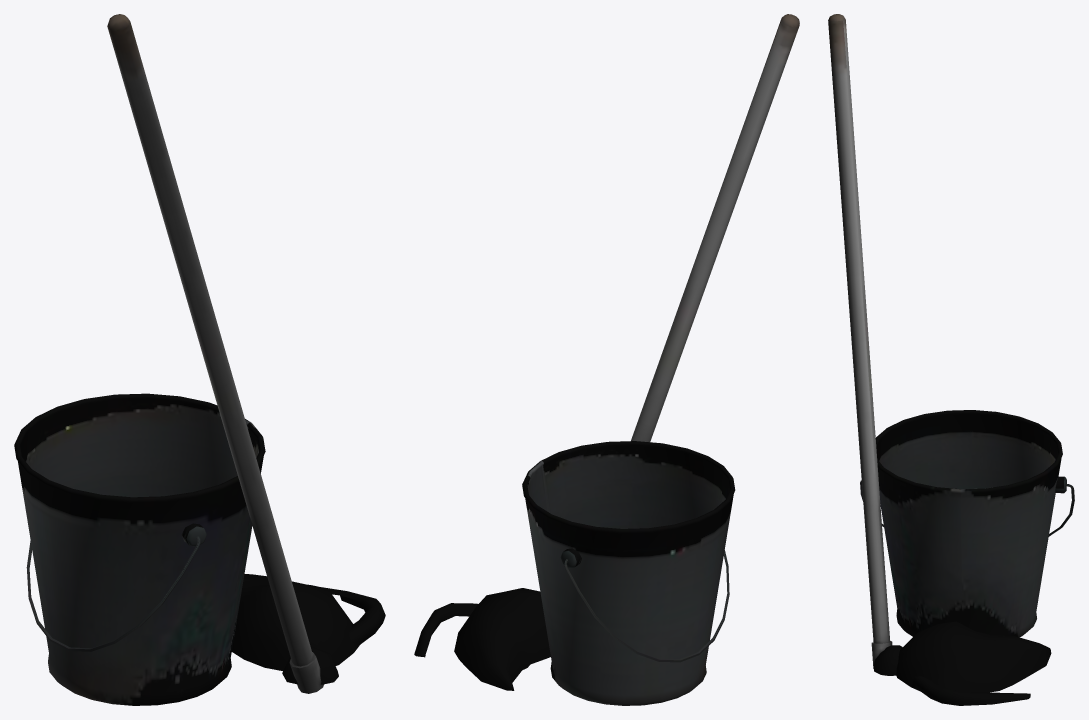
3 renders of one model, left to right at view 1: azimuth 30°, elevation 25°; view 2: azimuth 150°, elevation 25°; view 3: azimuth 270°, elevation 25°, orthographic. The views are drawn at different scales.
Parts seen in each view (by area): view 1: body0_model0_lod0_mesh0; view 2: body0_model0_lod0_mesh0; view 3: body0_model0_lod0_mesh0.
Boxes of the visible parts, bbox=[...] form: body0_model0_lod0_mesh0: bbox=[14, 14, 385, 705]; body0_model0_lod0_mesh0: bbox=[414, 14, 799, 705]; body0_model0_lod0_mesh0: bbox=[828, 14, 1074, 705].
Bounding box in the file's own units: 39.68 × 80.78 × 31.5.
Materials: 1 (1 with a texture image).
